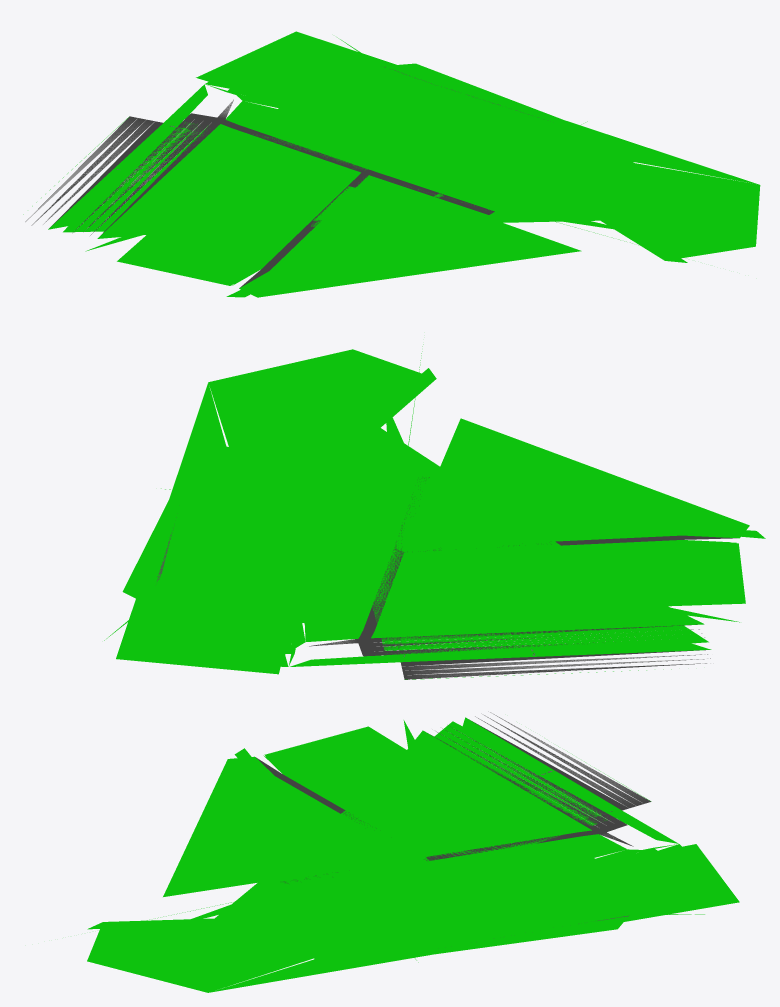
3 renders of one model, top to bottom at view 1: azimuth 30°, elevation 25°; view 2: azimuth 150°, elevation 25°; view 3: azimuth 270°, elevation 25°, orthographic. The views are drawn at different scales.
Bounding box in the file's own units: 267 × 0.201 × 297.
